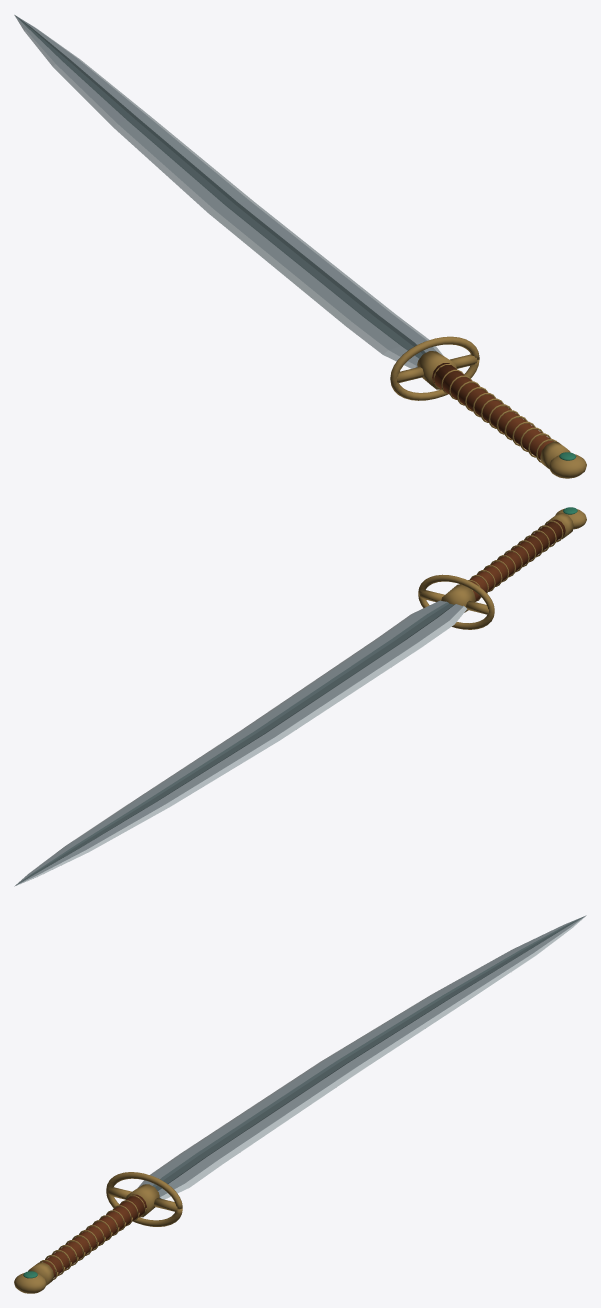
The model's file is ember.glb.
The picture shows the model from 3 angles, top to bottom: view 1: azimuth 30°, elevation 25°; view 2: azimuth 150°, elevation 25°; view 3: azimuth 330°, elevation 25°; orthographic projection. The views are drawn at different scales.
Parts seen in each view (by area): view 1: MV_ember; view 2: MV_ember; view 3: MV_ember.
Boxes of the visible parts, x1,y1,x2,y2 form: MV_ember: (14, 15, 586, 478); MV_ember: (14, 507, 586, 886); MV_ember: (14, 915, 586, 1293).
Bounding box in the file's own units: 0.1821 × 0.11 × 2.01.
